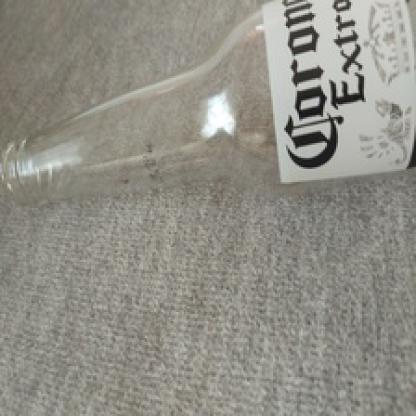Can: (2, 0, 416, 254)
